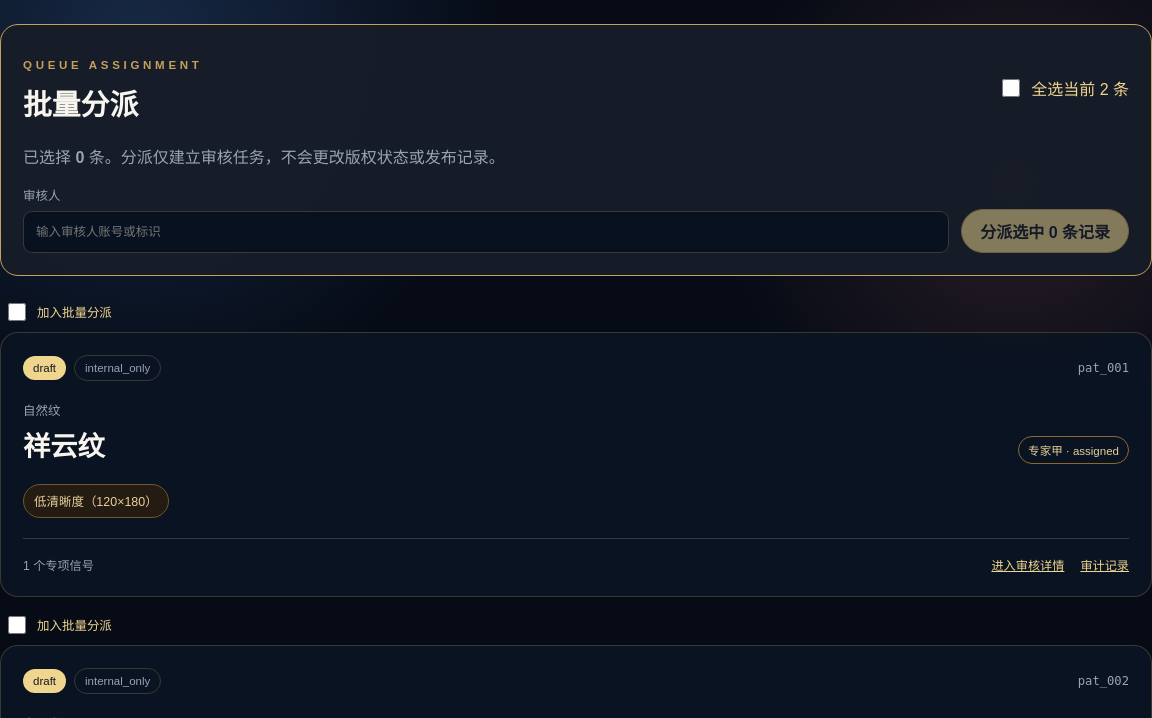
Test: ReviewQueueBoard › clears only successfully assigned selections and focuses partial-failure feedback
Click the checkbox labelled "全选当前 2 条" at coordinates (1011, 88), box [1002,78,1020,96]
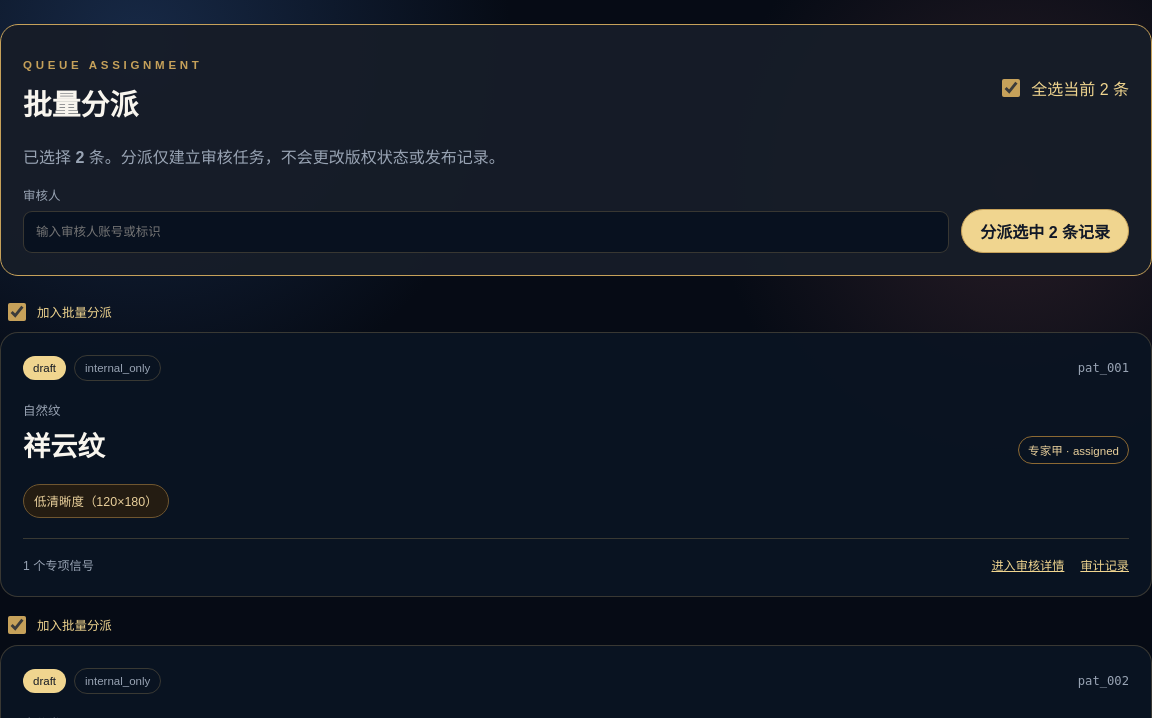
Type "专家乙" into the field labelled "审核人" at coordinates (486, 232), box [23,211,949,253]
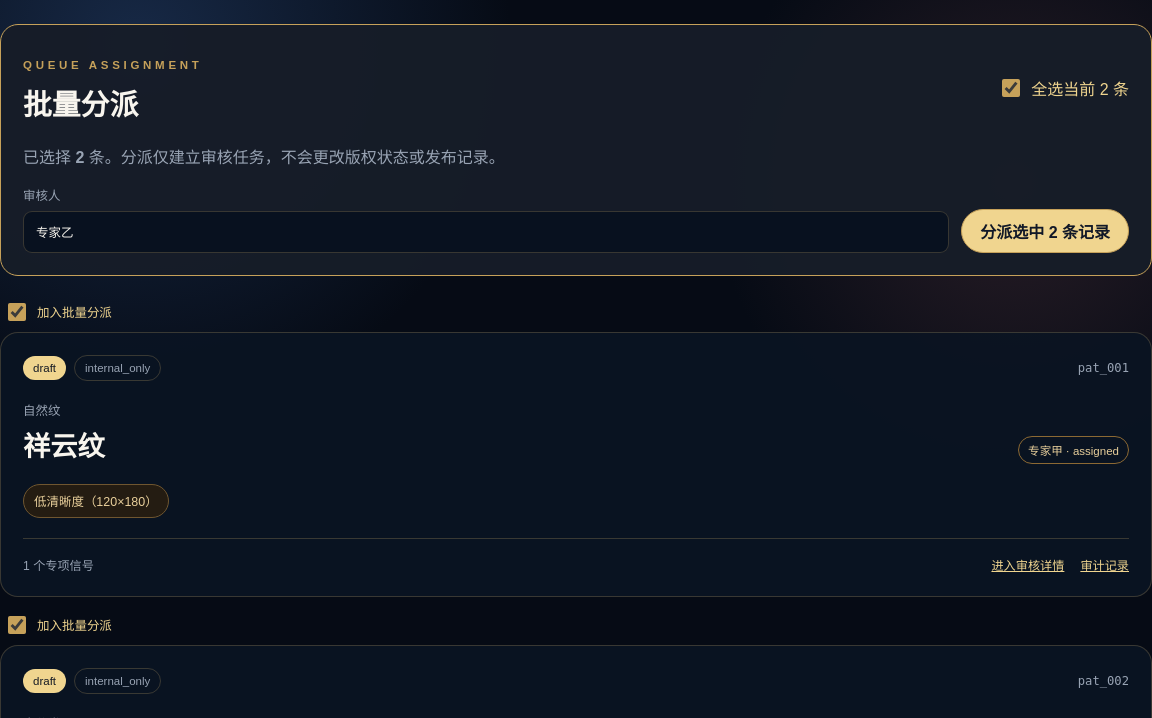
Click the button "分派选中 2 条记录" at coordinates (1045, 231), box [961,209,1129,253]
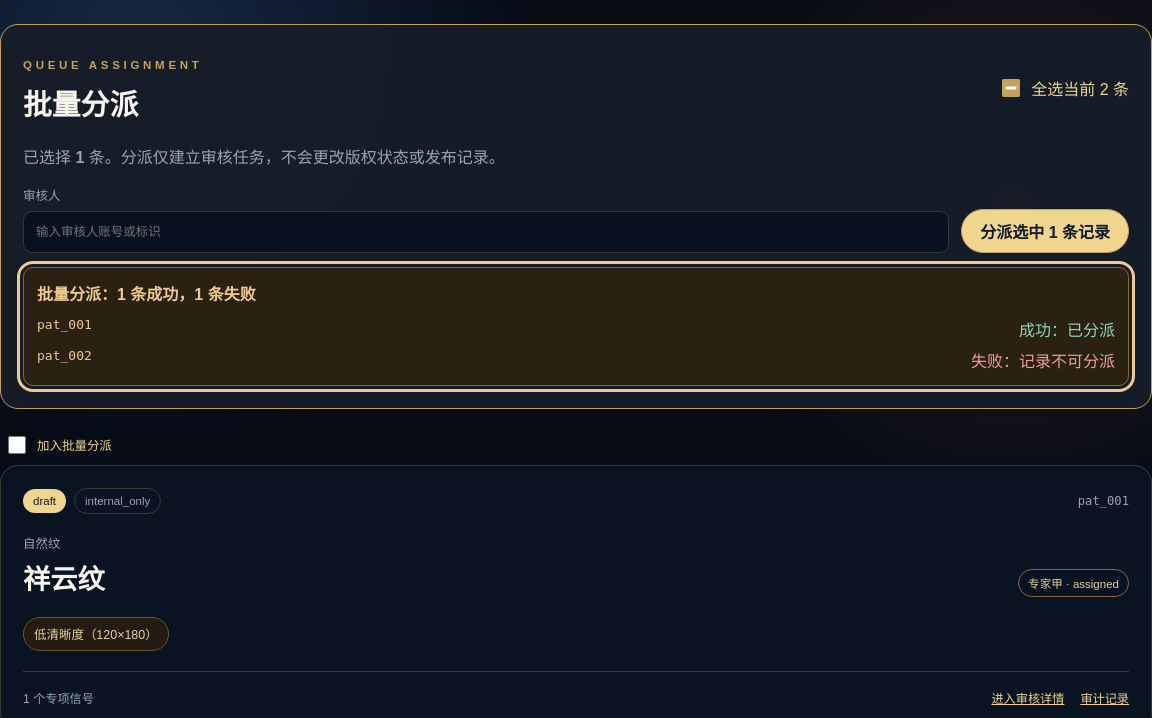
Expected: the form named "selectedIds" holds "pat_002", [23,186,1129,253]
Expected: the message shows "1 条成功，1 条失败", [37,286,256,303]
